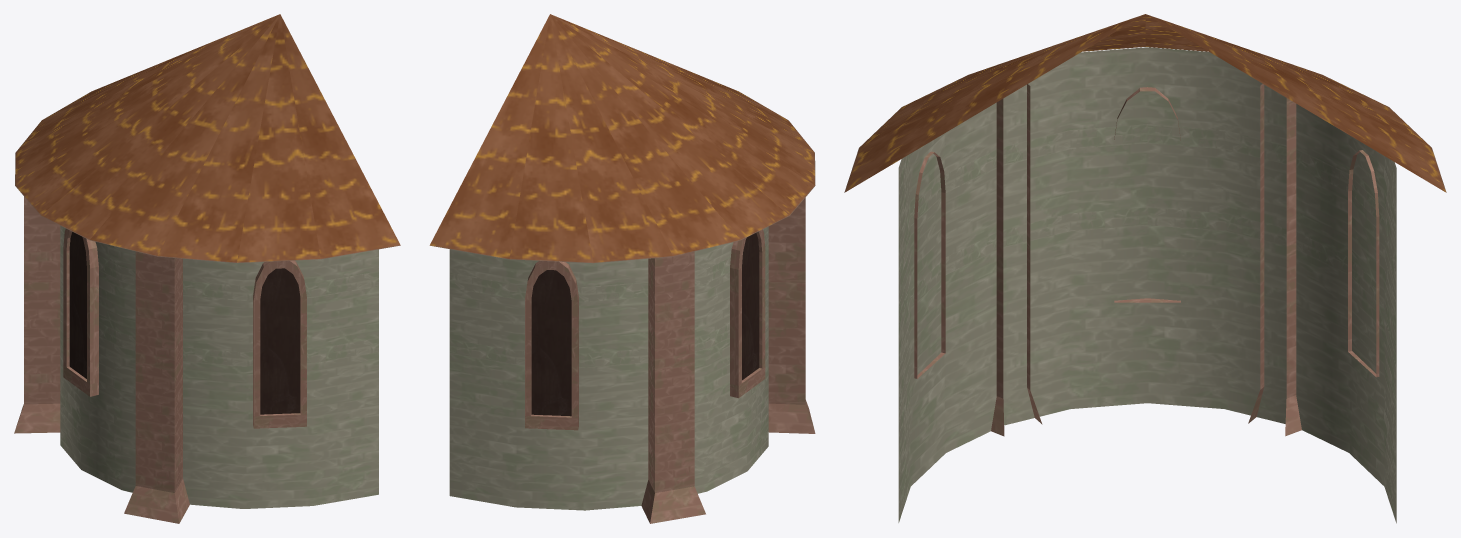
The model's file is SM_Building_002_BigTowerHalf.fbx.
3 renders of one model, left to right at view 1: azimuth 30°, elevation 25°; view 2: azimuth 150°, elevation 25°; view 3: azimuth 270°, elevation 25°, orthographic. The views are drawn at different scales.
Parts seen in each view (by area): view 1: polySurface621; view 2: polySurface621; view 3: polySurface621.
Part boxes in pixels (bbox=[...]): polySurface621: bbox=[14, 14, 400, 523]; polySurface621: bbox=[429, 14, 815, 523]; polySurface621: bbox=[844, 14, 1446, 523].
Bounding box in the file's own units: 351 × 572 × 612.
